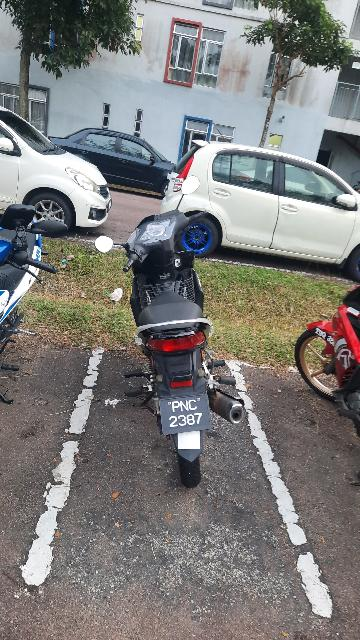License_Plate: (156, 392, 219, 438)
motorcycle: (92, 159, 256, 495)
